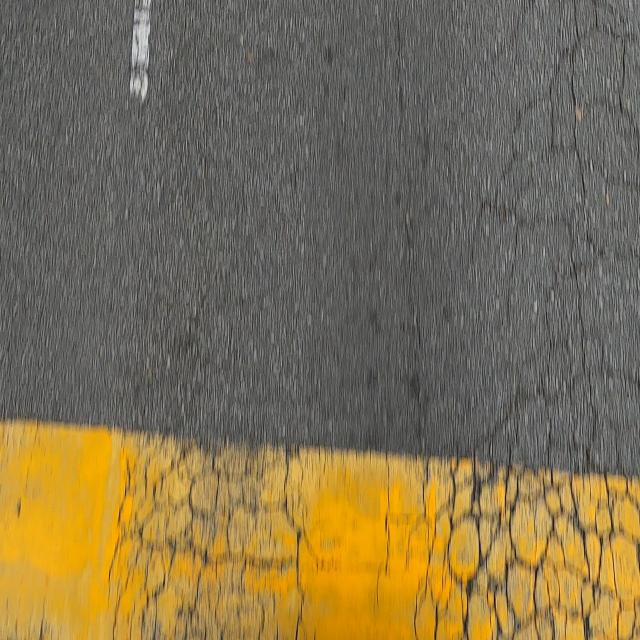Retak-Buaya: (401, 4, 640, 640), (102, 427, 307, 640)
